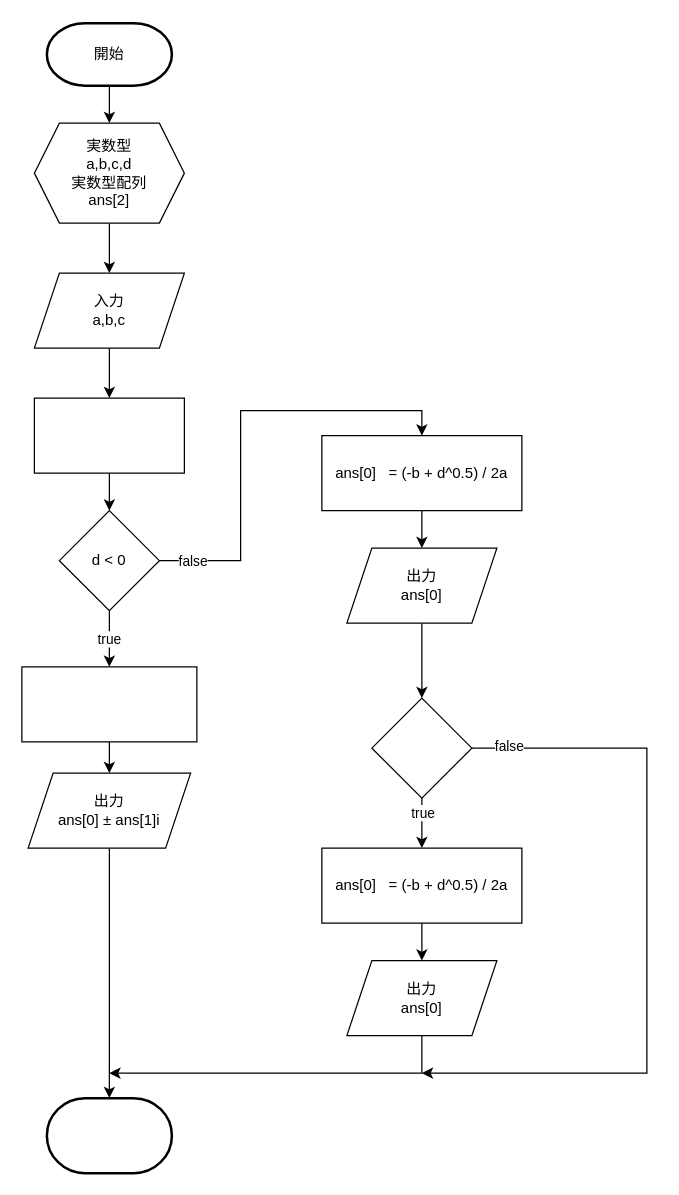
This 679x1195 diagram has some shape labels left out. Each missing label, with the centre of its shape:
"ans[0] ← -b / 2a ans[1] ← |d|^0.5 / 2a" goes at point (109, 704).
"d > 0" goes at point (421, 747).
"d ← b^2 -4ac" goes at point (108, 435).
"終了" goes at point (108, 1135).
